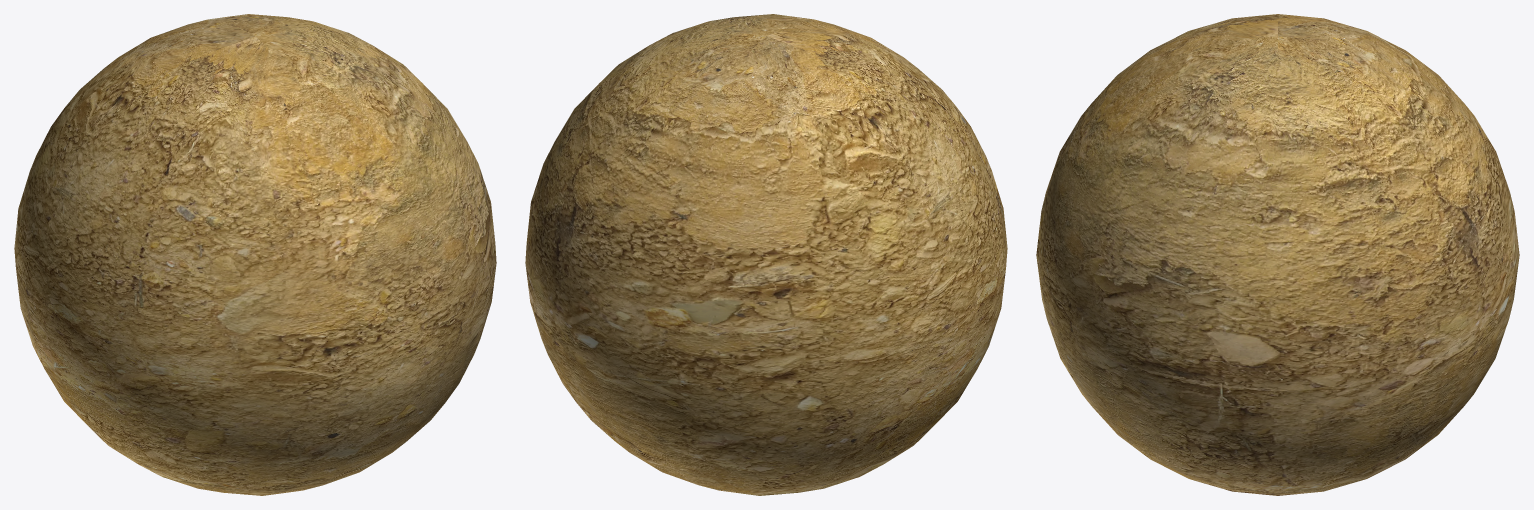
File: Painter.unity_1.obj
3 views of the same model, side by side, from view 1: azimuth 30°, elevation 25°; view 2: azimuth 150°, elevation 25°; view 3: azimuth 270°, elevation 25° (orthographic).
Parts seen in each view (by area): view 1: SUbstance sphere; view 2: SUbstance sphere; view 3: SUbstance sphere.
Part boxes in pixels (x1,y1,x2,y2): SUbstance sphere: (14, 14, 496, 495); SUbstance sphere: (525, 14, 1007, 495); SUbstance sphere: (1036, 14, 1519, 495).
Size of the model in its own units: 0.8785 by 0.8785 by 0.8785.
Materials: 1 (1 with a texture image).
